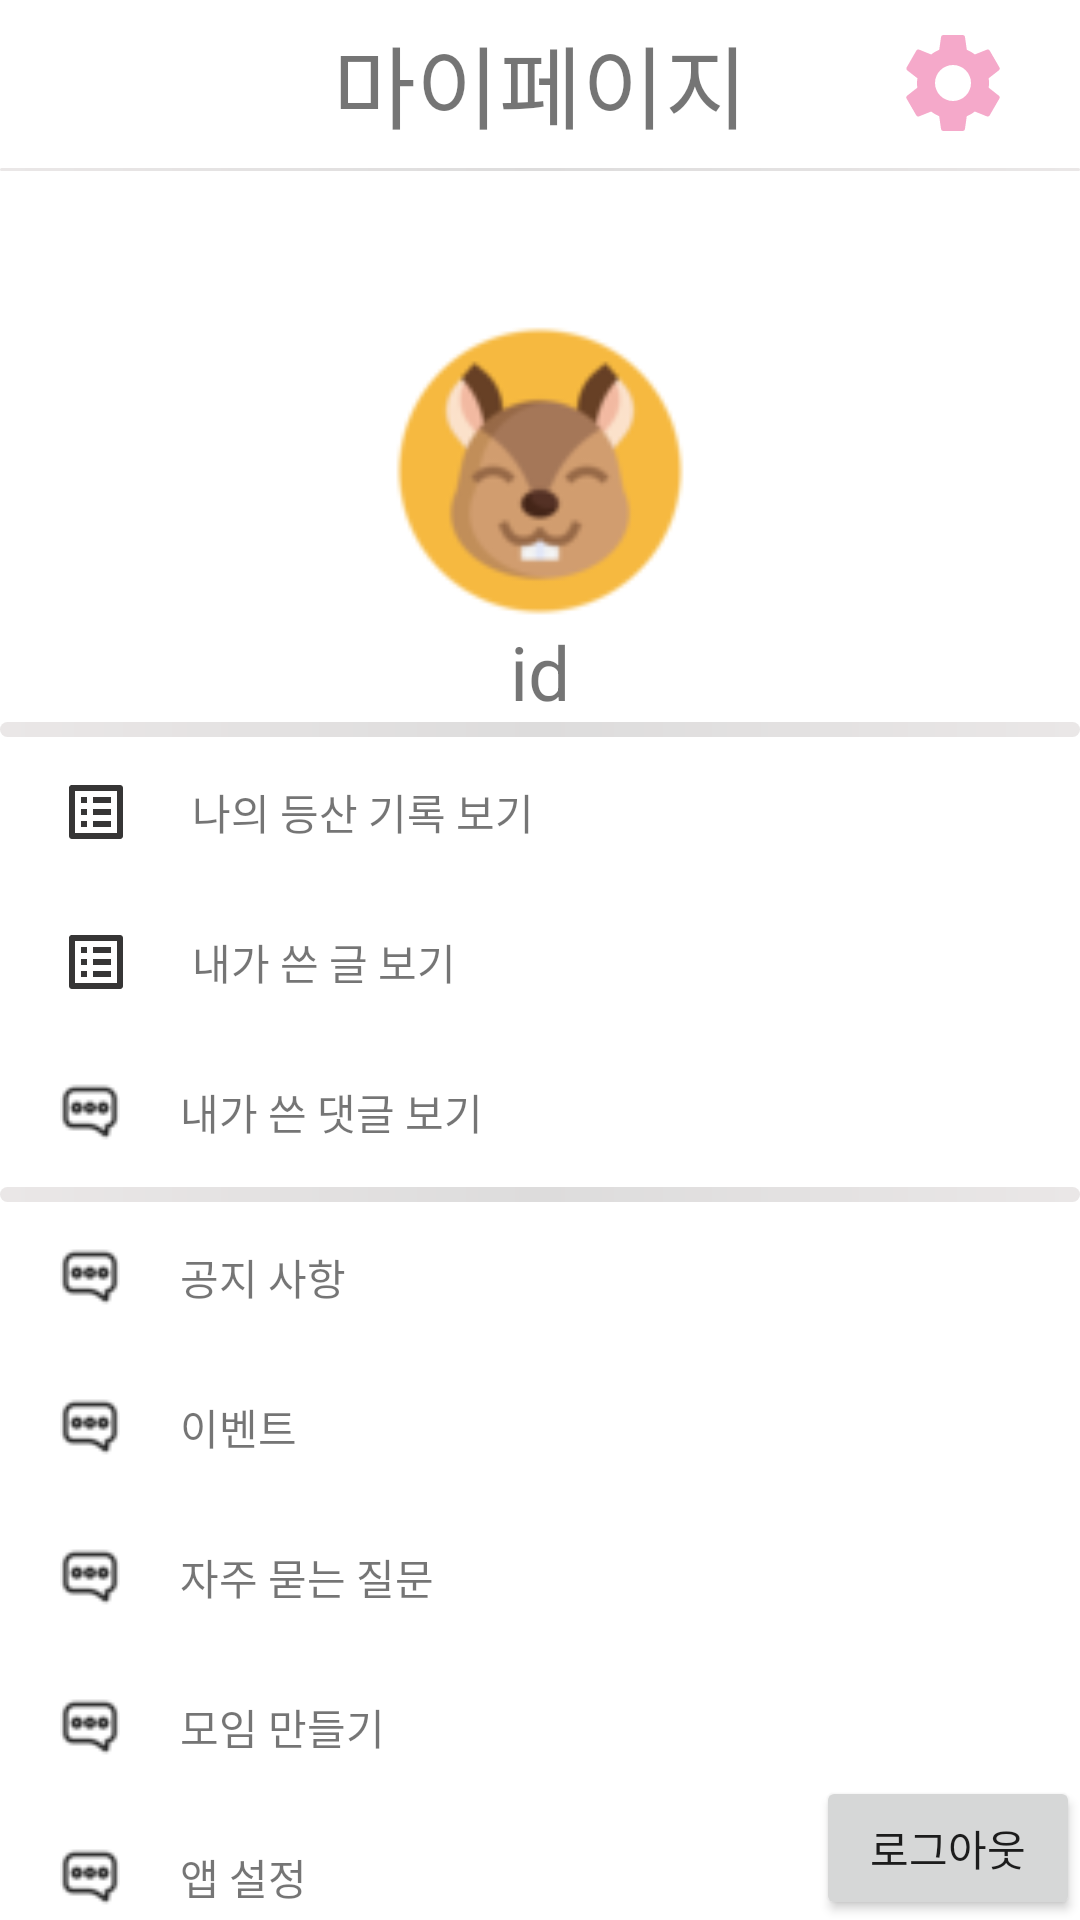

Icons on this 1080px x 1920px Android screen, each with the point to tap as (x,y):
freechat: (90,1111), (90,1276), (90,1426), (90,1576), (90,1726), (90,1876)
list: (96,812), (96,962)
settings: (953,83)
